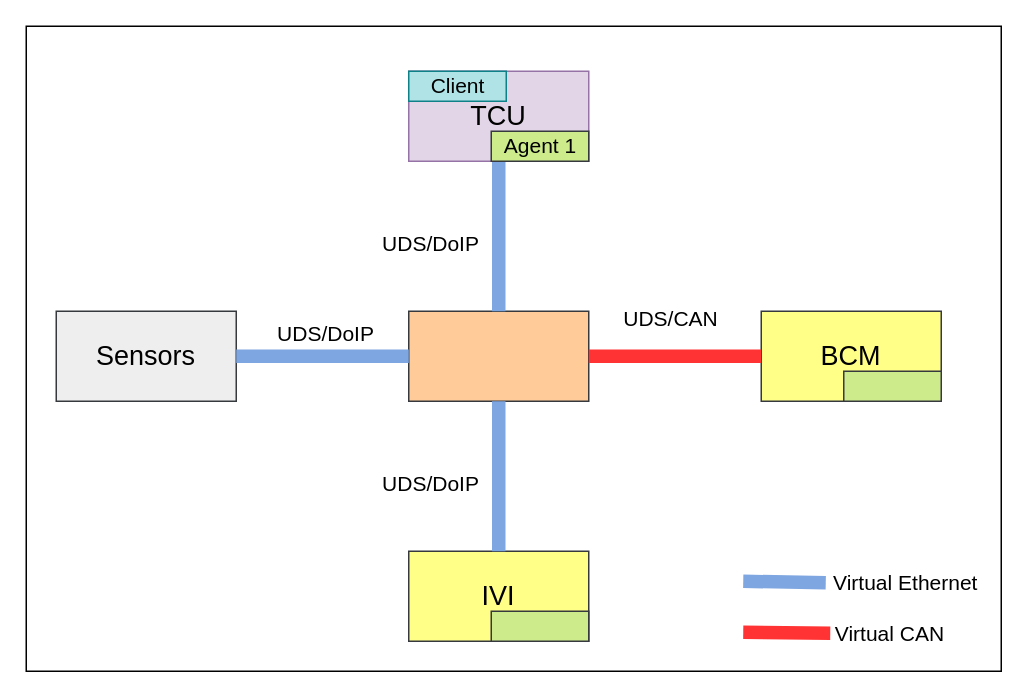
Some shapes in this 1028 by 698 pixel diagram are drawn without their labels. The centre of each missing label's shape, as x and y in pixels:
Agent 2: the point at 891,385
Agent 3: the point at 539,625
Gateway: the point at 498,355
